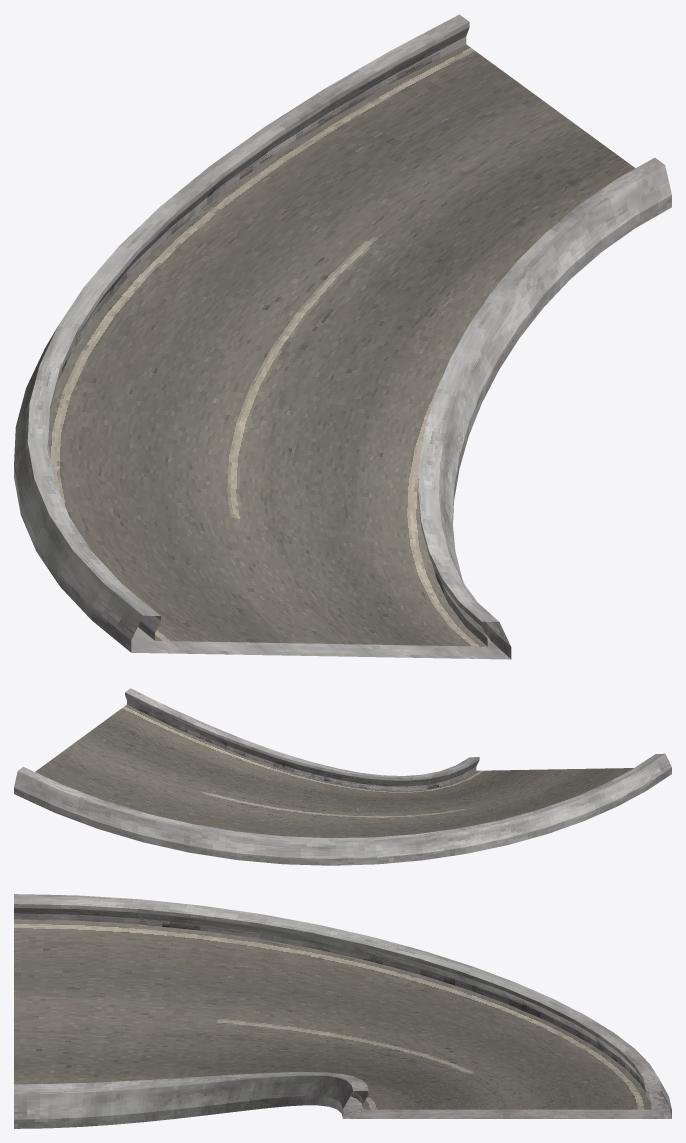
File: turn-right2x2.glb
3 views of the same model, one above another, from view 1: azimuth 30°, elevation 25°; view 2: azimuth 150°, elevation 25°; view 3: azimuth 270°, elevation 25° (orthographic). The views are drawn at different scales.
Parts seen in each view (by area): view 1: road-Turn-HalfBankedRight-BiSlopeUp-Up2-Right-Size2; view 2: road-Turn-HalfBankedRight-BiSlopeUp-Up2-Right-Size2; view 3: road-Turn-HalfBankedRight-BiSlopeUp-Up2-Right-Size2.
Boxes of the visible parts, x1,y1,x2,y2 form: road-Turn-HalfBankedRight-BiSlopeUp-Up2-Right-Size2: [14, 14, 671, 659]; road-Turn-HalfBankedRight-BiSlopeUp-Up2-Right-Size2: [14, 688, 671, 865]; road-Turn-HalfBankedRight-BiSlopeUp-Up2-Right-Size2: [14, 894, 671, 1128].
Bounding box in the file's own units: 2 × 0.5937 × 2.
Materials: 2 (2 with a texture image).
